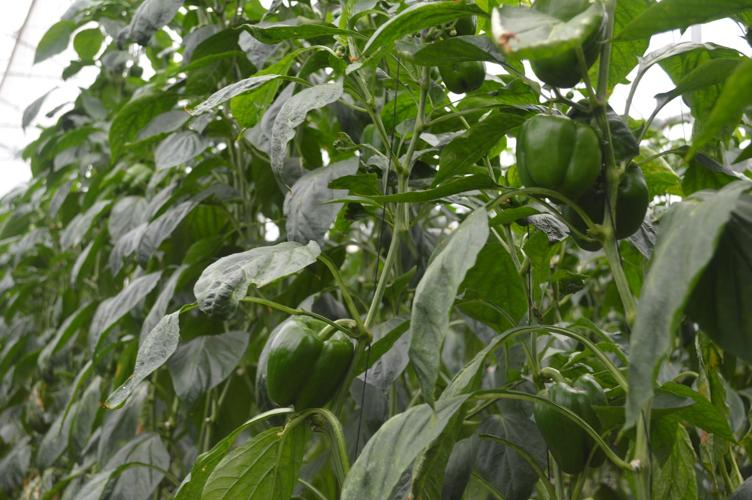BellPepper: (526, 371, 624, 480), (257, 316, 357, 420), (514, 110, 600, 215), (578, 153, 658, 256)
